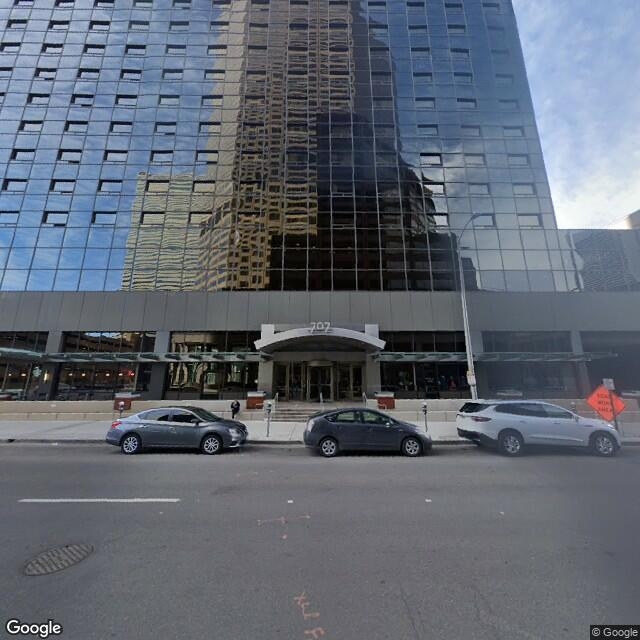lamp: (452, 210, 490, 397)
